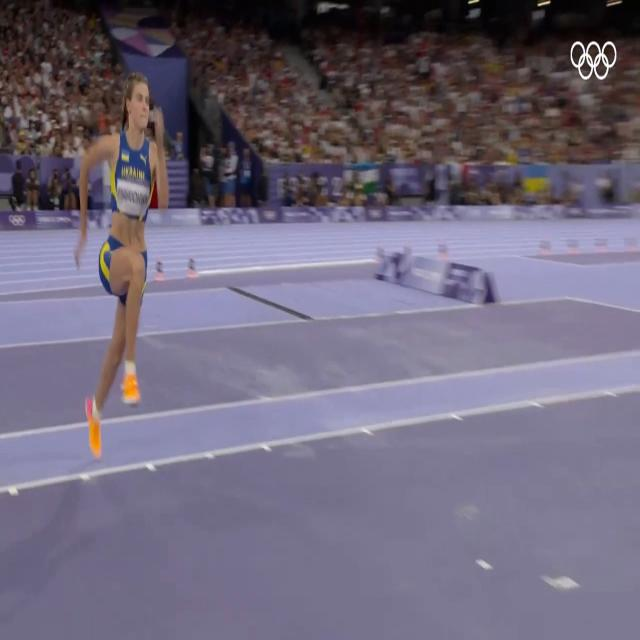run: (75, 76, 172, 461)
